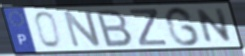0: (32, 10, 65, 50)
B: (95, 8, 135, 49)
G: (163, 5, 202, 48)
N: (61, 9, 103, 50), (195, 7, 234, 44)
Z: (127, 8, 170, 48)
